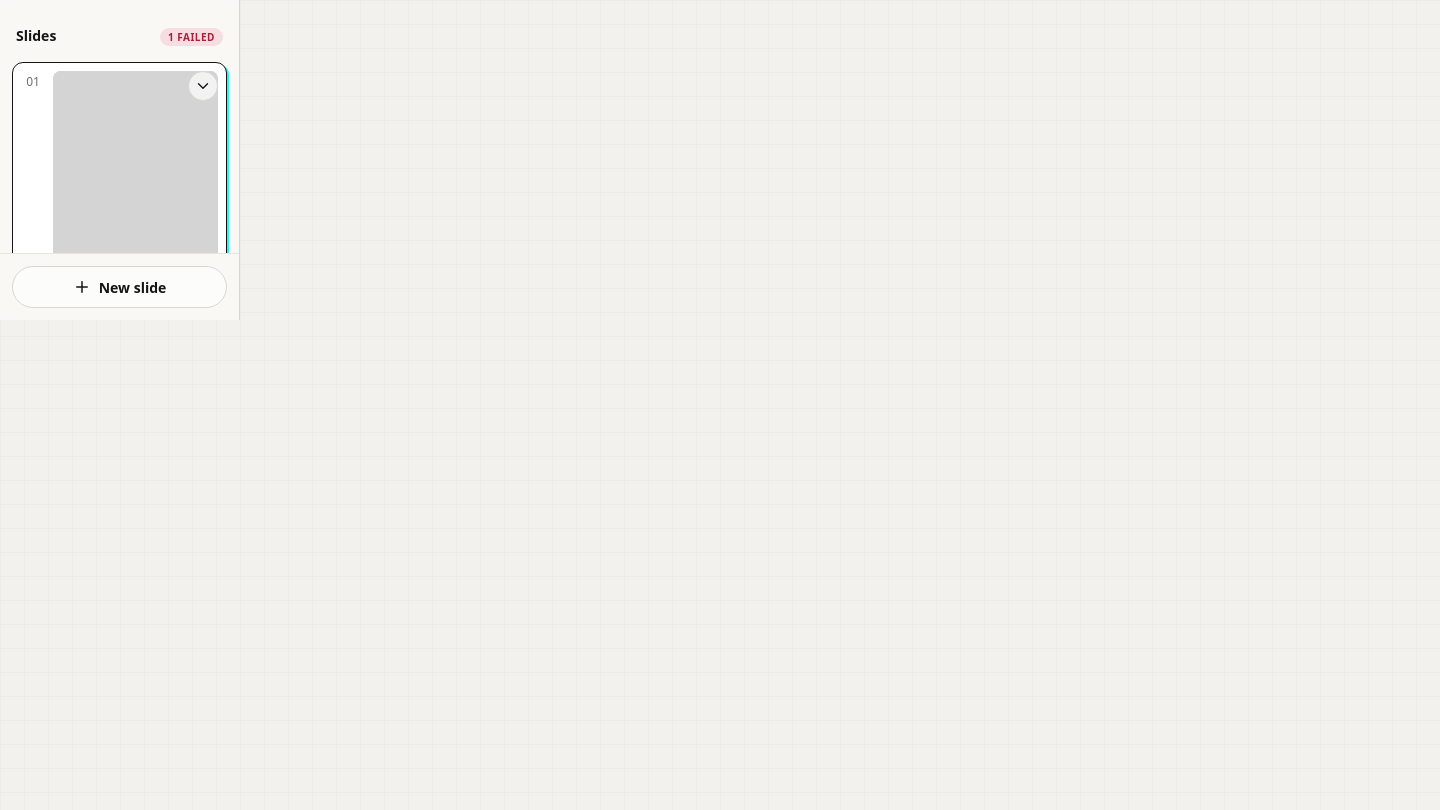
Test: turns danger on a failed render, and a press retries the failed slide
Click the button with test id "render-indicator".
click(191, 35)  # box top-left (160, 24), bottom-right (223, 46)
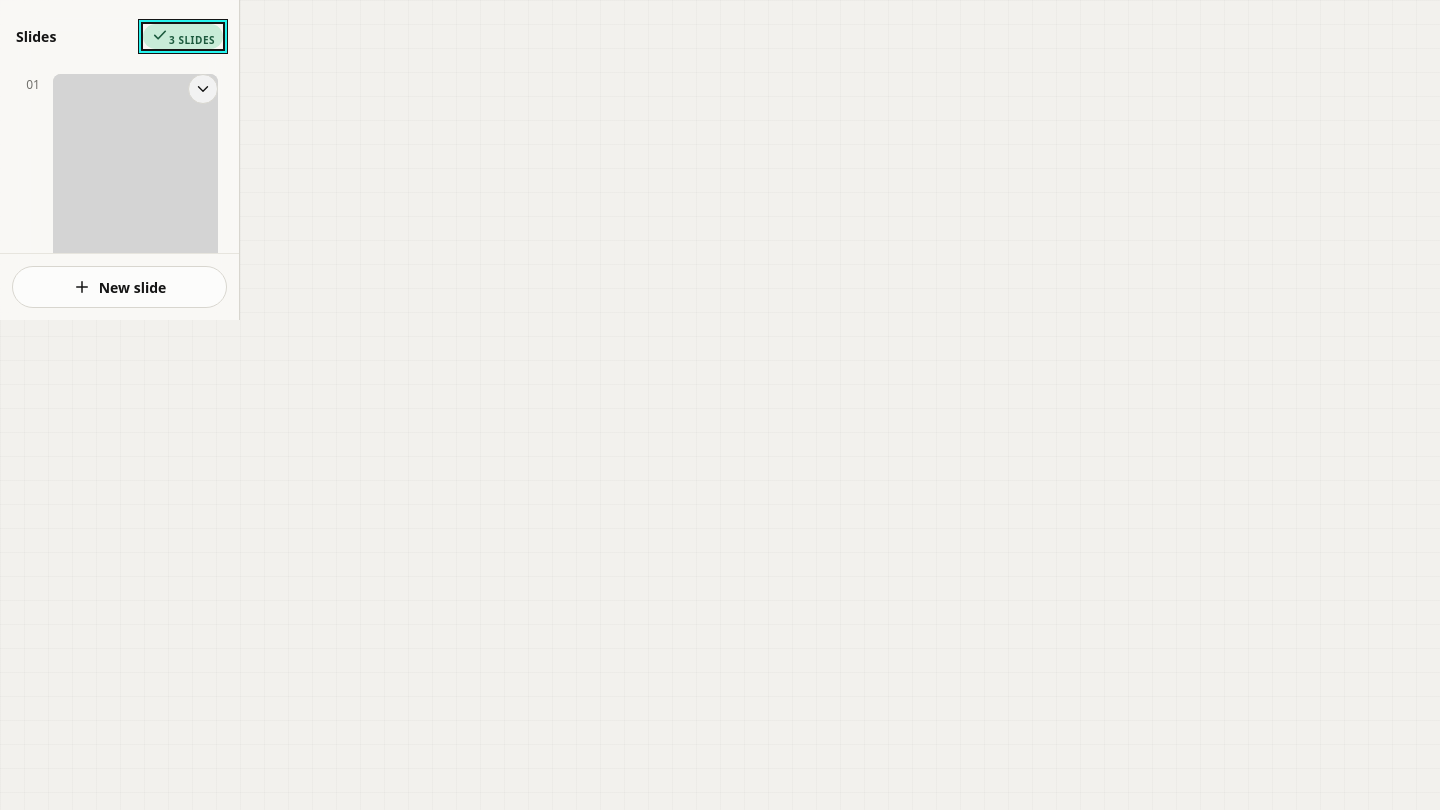
Check: the button with test id "render-indicator" reads "3 slides", box top-left (143, 24), bottom-right (223, 49)
